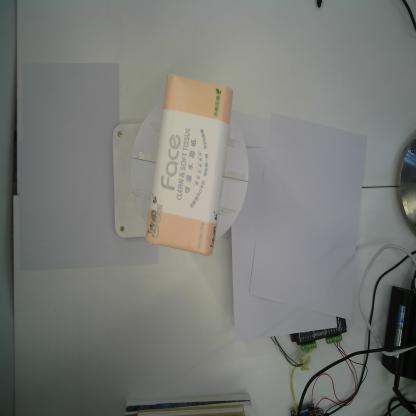Tissue: (144, 74, 234, 257)
